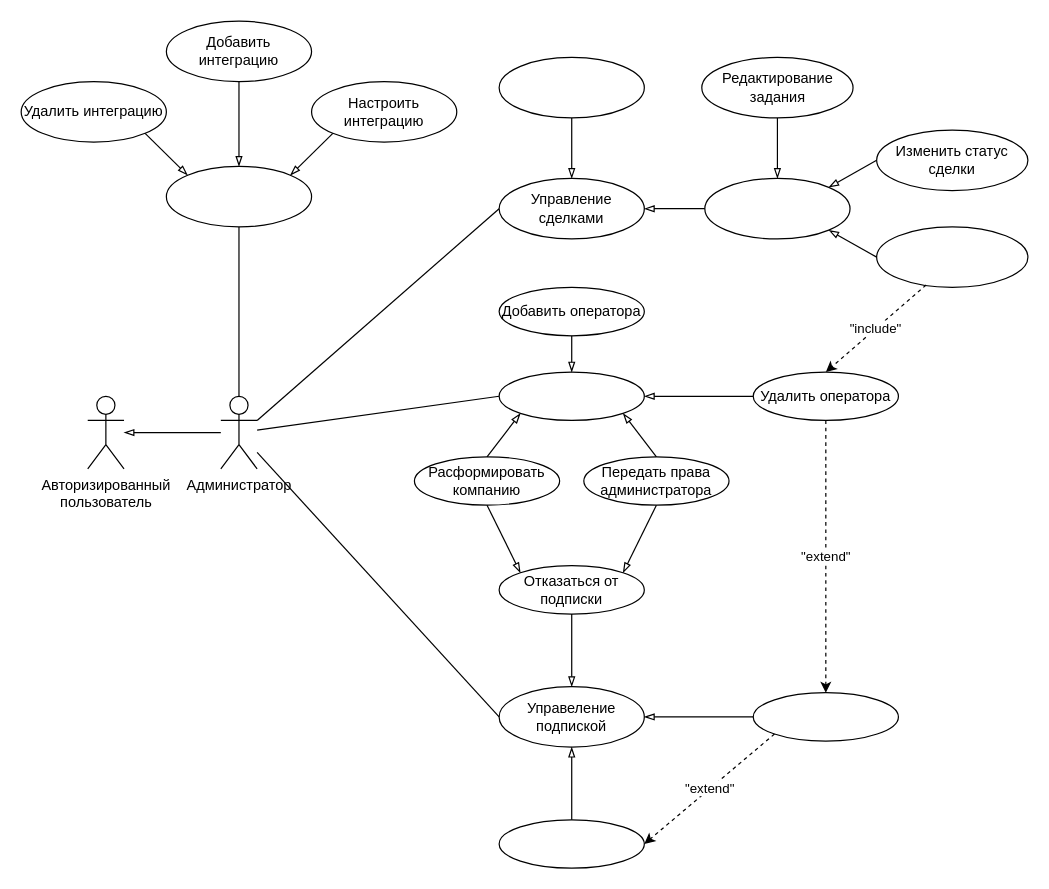
Some shapes in this 1049 by 889 pixel diagram are drawn without their labels. The shapes that lost their labels are listed below. From the top down, each one's centre as x and y in pixels, then its label:
point 571,87: Создать сделку
point 238,196: Управление интеграциями
point 777,208: Изменение данных сделки
point 951,256: Перенаправить сделку другому оператору
point 571,395: Управление компанией
point 825,716: Изменить данные подписки
point 571,843: Продлить подписку
